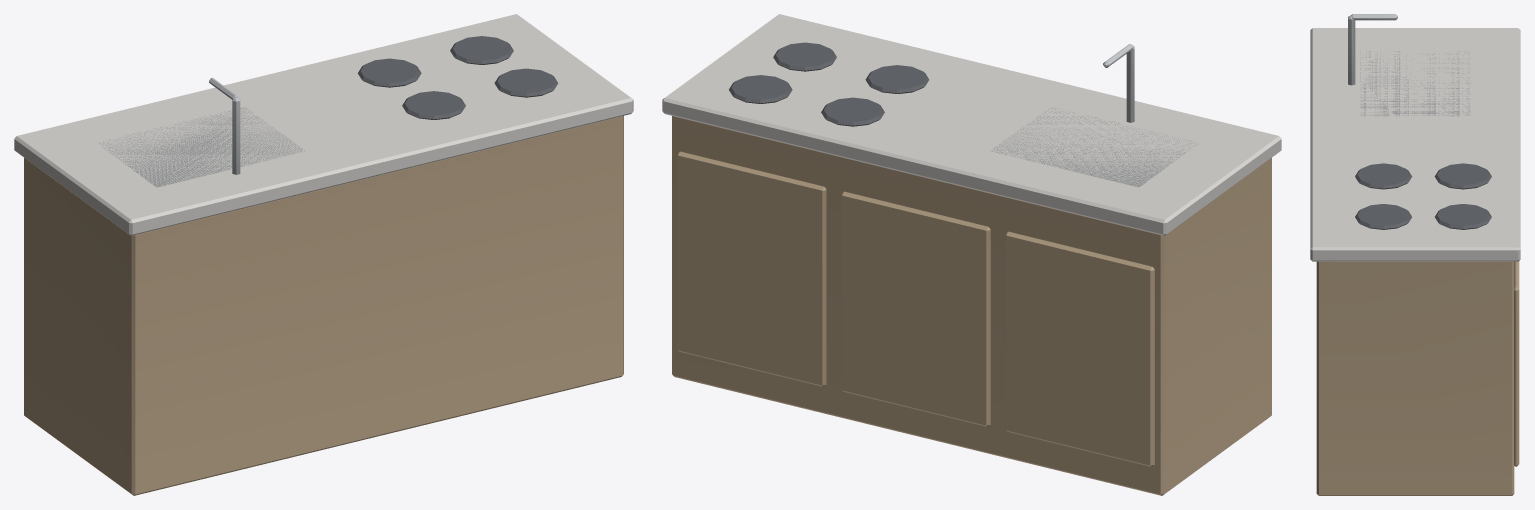
The model's file is furn_counter__oak.glb.
3 views of the same model, side by side, from view 1: azimuth 30°, elevation 25°; view 2: azimuth 150°, elevation 25°; view 3: azimuth 270°, elevation 25° (orthographic). The views are drawn at different scales.
Size of the model in its own units: 1.64 by 1.11 by 0.66.
